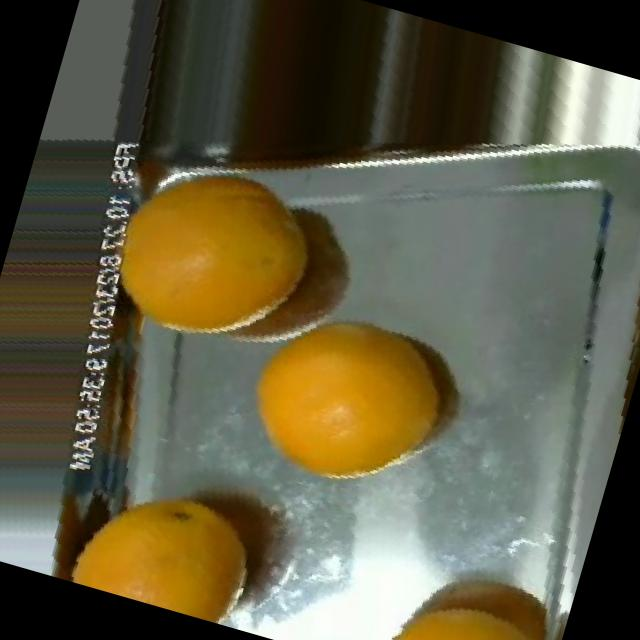Fruit: (49, 442, 298, 636), (358, 523, 579, 640)
